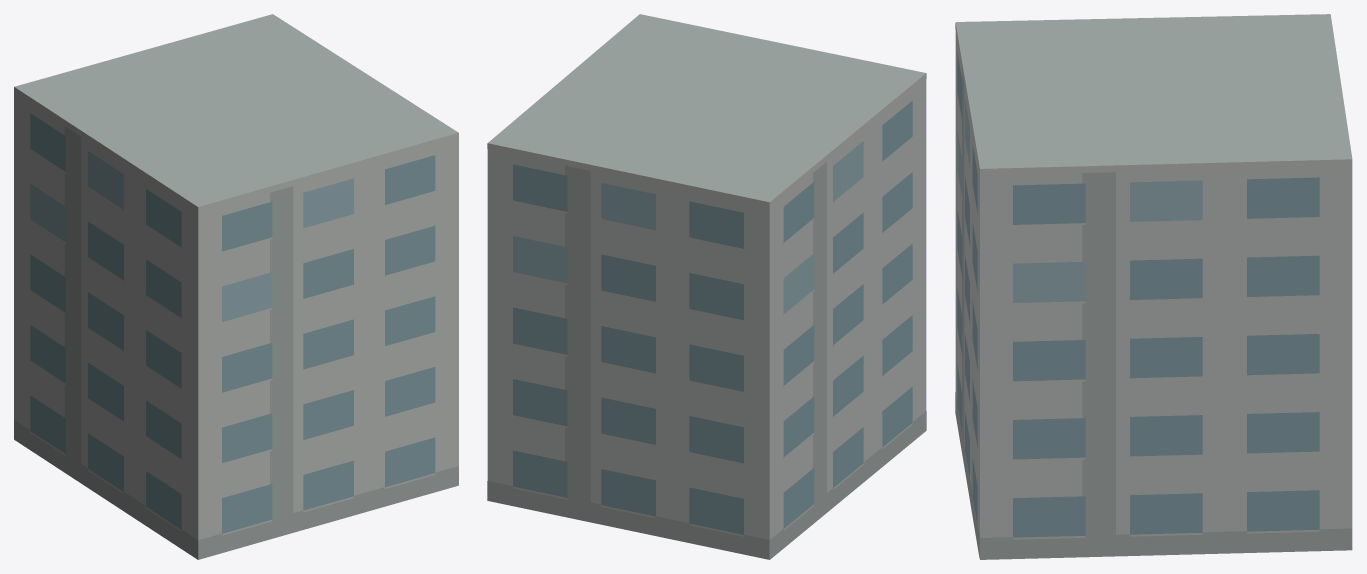
File: survey-upis-32882549.glb
3 renders of one model, left to right at view 1: azimuth 30°, elevation 25°; view 2: azimuth 150°, elevation 25°; view 3: azimuth 270°, elevation 25°, orthographic. The views are drawn at different scales.
Visible parts, largest first — view 1: survey-upis-32882549.tmp; view 2: survey-upis-32882549.tmp; view 3: survey-upis-32882549.tmp.
Part boxes in pixels (x1,y1,x2,y2): survey-upis-32882549.tmp: (14, 14, 458, 559); survey-upis-32882549.tmp: (487, 14, 926, 559); survey-upis-32882549.tmp: (955, 14, 1352, 559).
Size of the model in its own units: 11.91 by 14 by 12.9.
